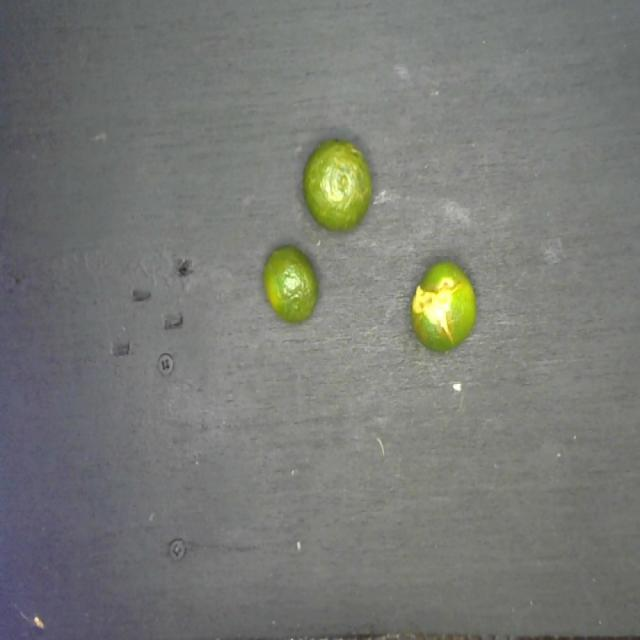biodegradable: (258, 125, 478, 359)
